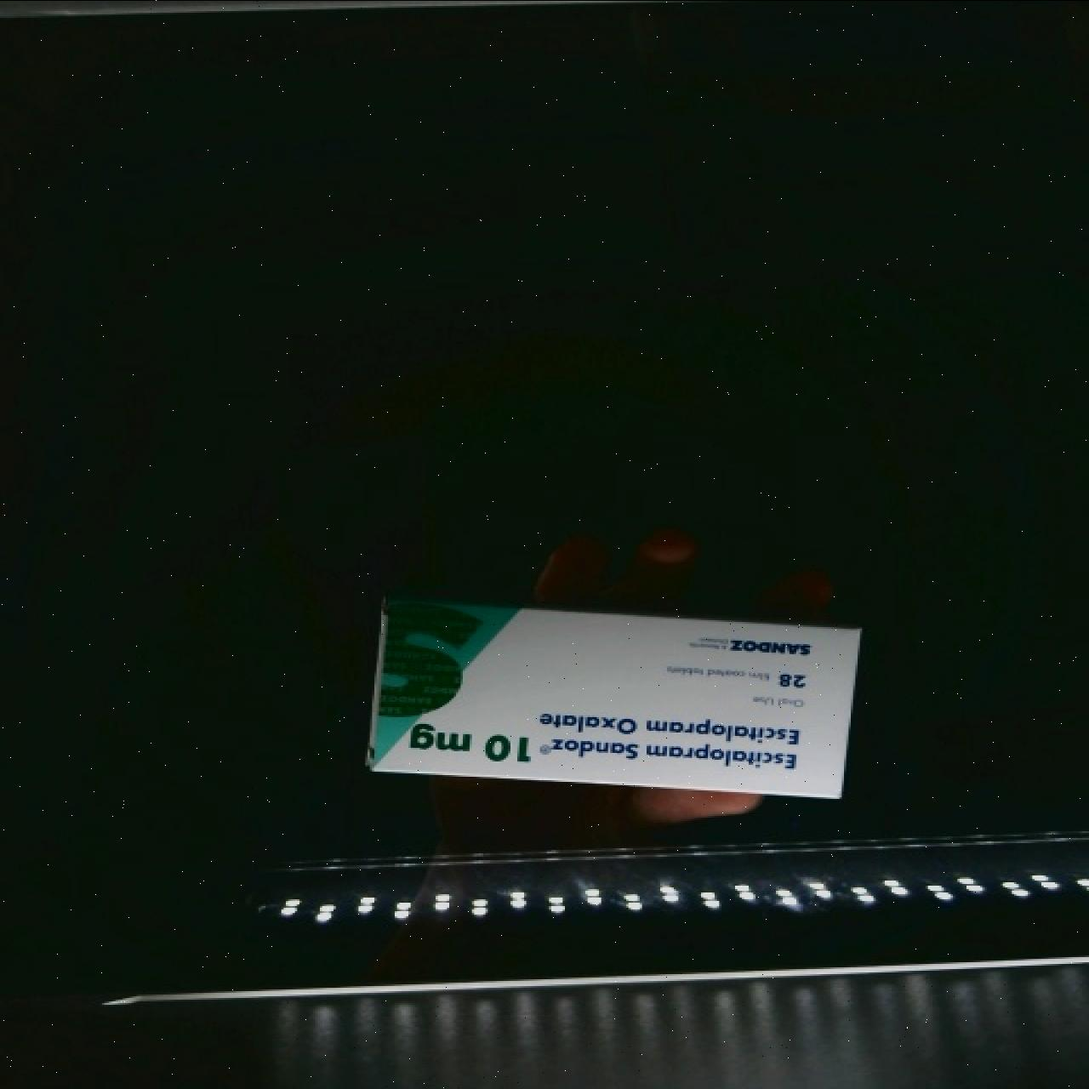medicine_label_obb: (523, 699, 826, 789)
